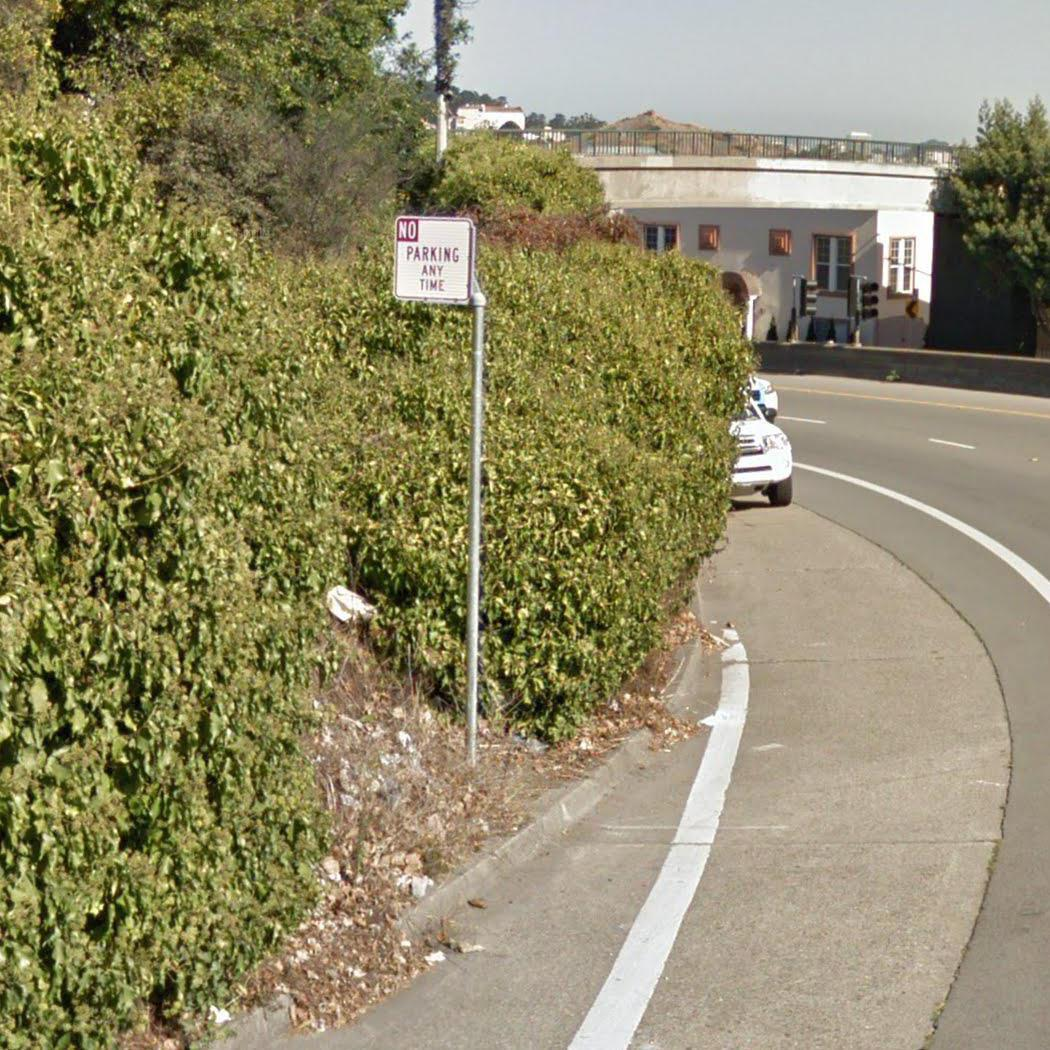No Parking Anytime: (389, 213, 480, 308)
